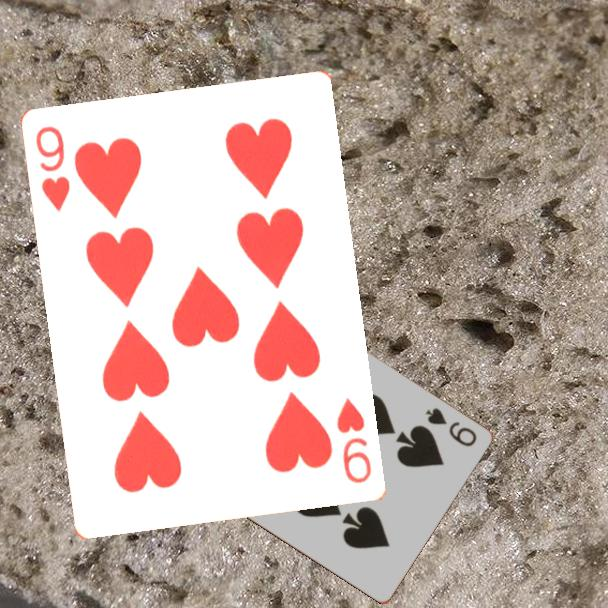h09: (333, 394, 375, 487), (32, 123, 74, 215)
s09: (421, 404, 479, 450)
